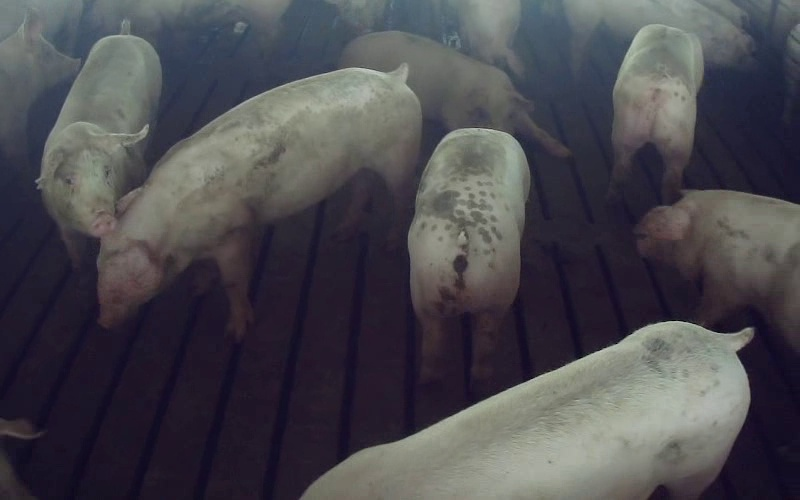pig: (100, 67, 421, 340), (302, 321, 753, 499), (37, 19, 161, 267), (408, 128, 529, 382), (340, 31, 570, 156), (635, 190, 799, 354), (609, 24, 703, 203)
